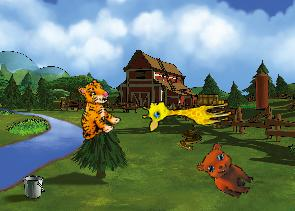bear: (192, 139, 262, 202)
giraffe: (140, 90, 233, 133)
tiger: (60, 76, 127, 145)
